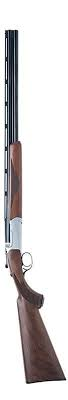gun: (1, 27, 68, 386)
